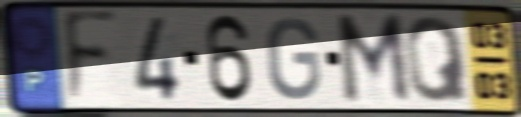4: (132, 13, 183, 105)
6: (203, 12, 255, 106)
F: (60, 7, 121, 110)
G: (264, 15, 323, 103)
M: (333, 11, 415, 108)
Q: (401, 14, 473, 105)
